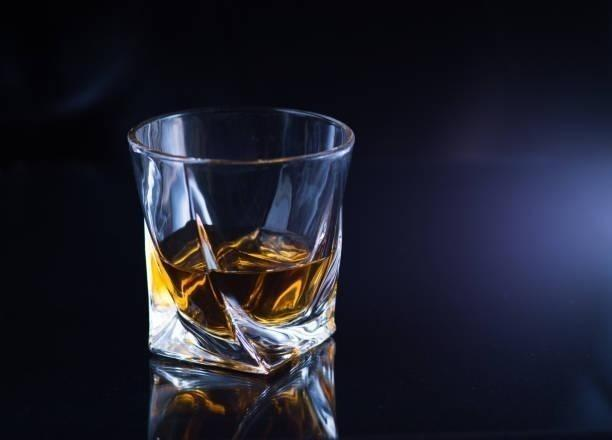glass-normal: (125, 103, 357, 378)
